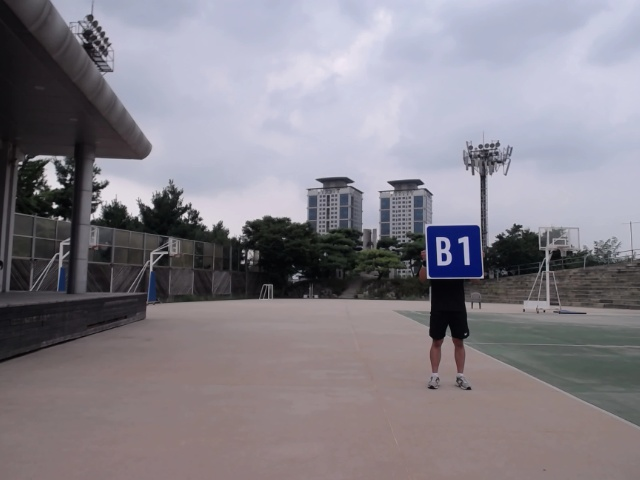delivery_b1: (425, 224, 484, 279)
